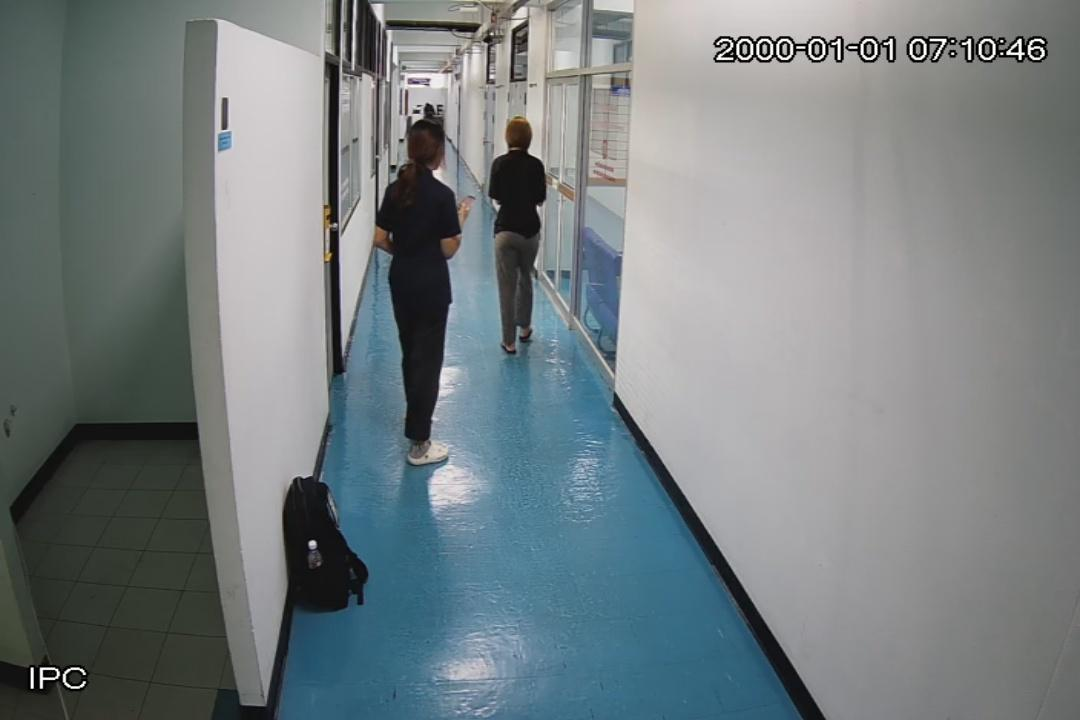normal: (366, 102, 468, 482), (480, 114, 554, 362)
